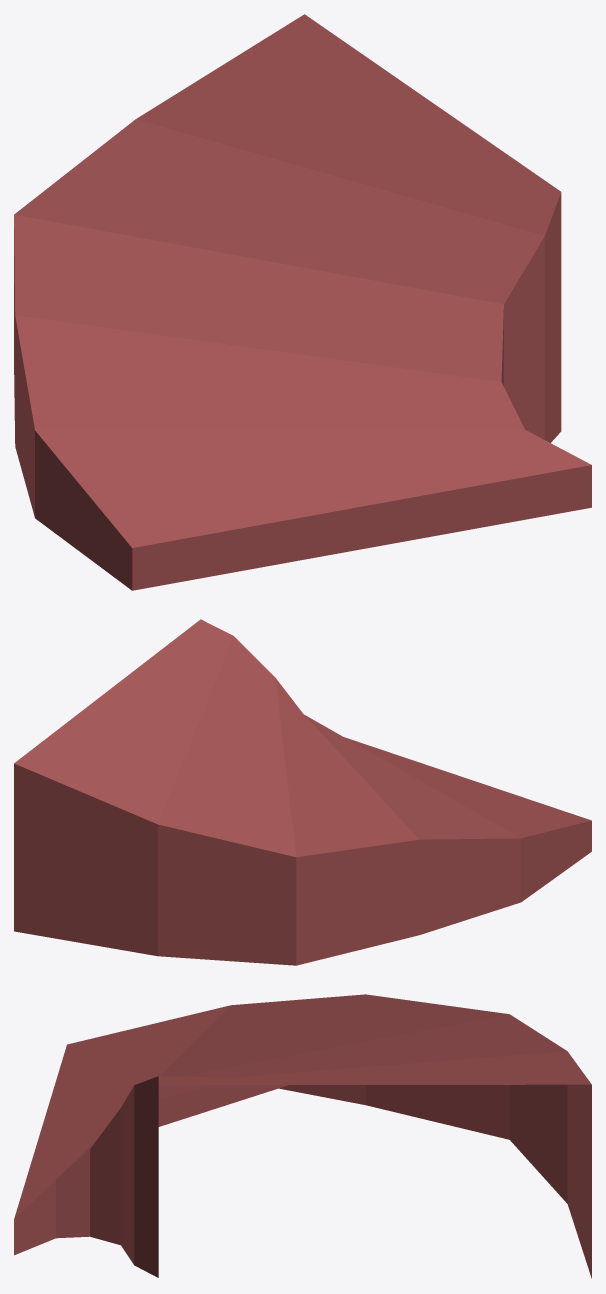
File: Rampa_collider.fbx
The picture shows the model from 3 angles, top to bottom: view 1: azimuth 30°, elevation 25°; view 2: azimuth 150°, elevation 25°; view 3: azimuth 270°, elevation 25°; orthographic projection. The views are drawn at different scales.
Parts seen in each view (by area): view 1: Rampa_collider; view 2: Rampa_collider; view 3: Rampa_collider.
Boxes of the visible parts, x1,y1,x2,y2 form: Rampa_collider: [14, 14, 591, 590]; Rampa_collider: [14, 619, 591, 965]; Rampa_collider: [14, 994, 591, 1278].
Bounding box in the file's own units: 3.3 × 1.57 × 4.05.
